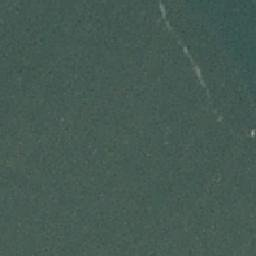debris: (157, 1, 172, 28), (178, 41, 194, 62), (194, 65, 206, 89), (216, 113, 226, 124), (249, 130, 256, 137)
